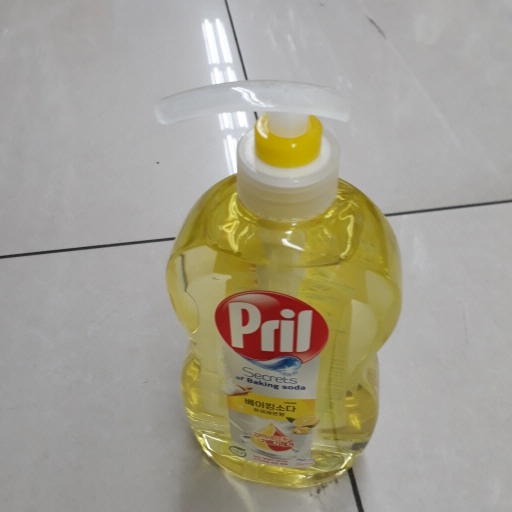Plastic_3: (152, 78, 402, 492)
